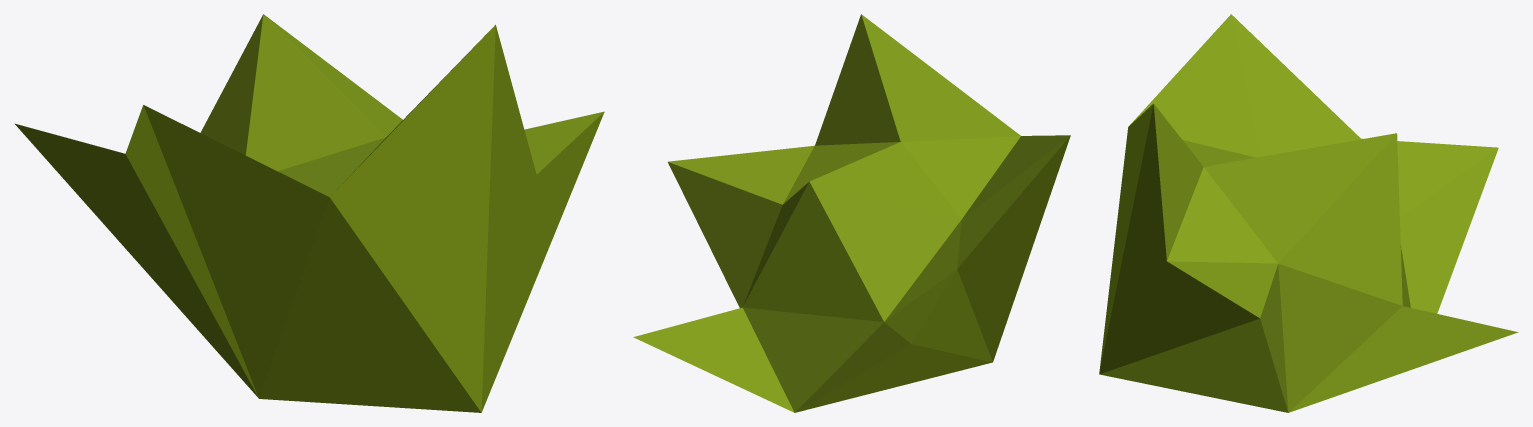
The model's file is BushAutumn1_Alt4.fbx.
3 renders of one model, left to right at view 1: azimuth 30°, elevation 25°; view 2: azimuth 150°, elevation 25°; view 3: azimuth 270°, elevation 25°, orthographic. The views are drawn at different scales.
Parts seen in each view (by area): view 1: BushAutumn1_Alt4; view 2: BushAutumn1_Alt4; view 3: BushAutumn1_Alt4.
Boxes of the visible parts, x1,y1,x2,y2 form: BushAutumn1_Alt4: [15, 14, 604, 412]; BushAutumn1_Alt4: [633, 14, 1070, 412]; BushAutumn1_Alt4: [1099, 14, 1518, 412].
Size of the model in its own units: 0.6828 by 0.4811 by 0.6299.
